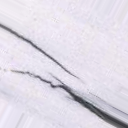crackTip: (1, 22, 127, 128)
